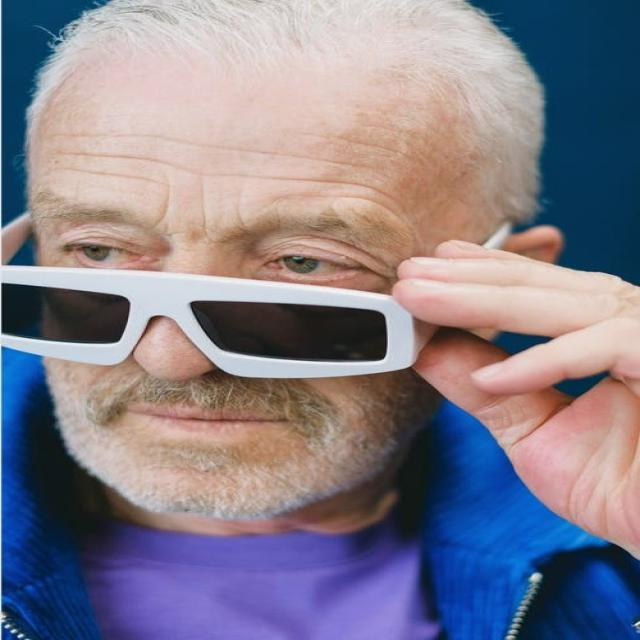Wrinkles: (62, 153, 406, 206), (56, 134, 390, 178), (336, 137, 423, 165), (319, 196, 406, 224), (147, 179, 170, 231), (94, 173, 168, 185), (364, 126, 409, 135), (353, 209, 375, 224), (202, 184, 205, 232), (413, 136, 428, 144), (330, 207, 340, 219), (237, 193, 242, 214), (330, 201, 337, 207)
